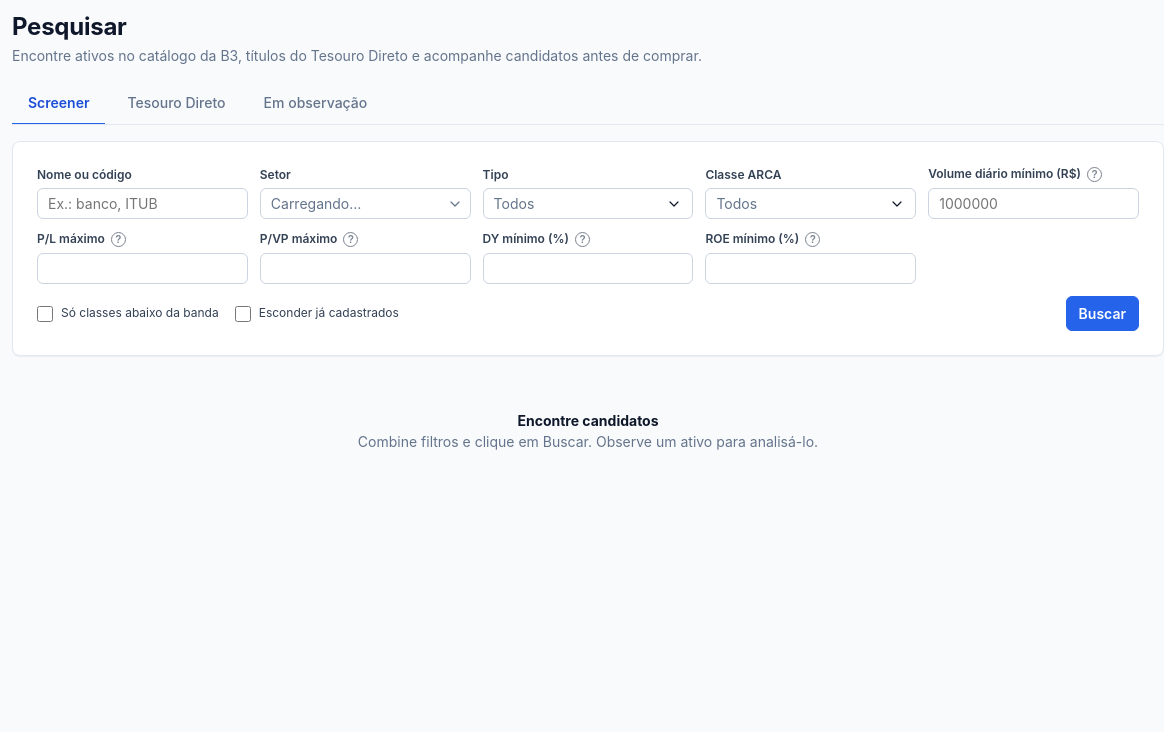
Test: research › cancels the quadrant choice without following
The image size is (1164, 732).
What coordinates should you click on to do the following:
click the button "Buscar"
I would click on:
 (1102, 314)
Its box is [1066,296,1139,331].
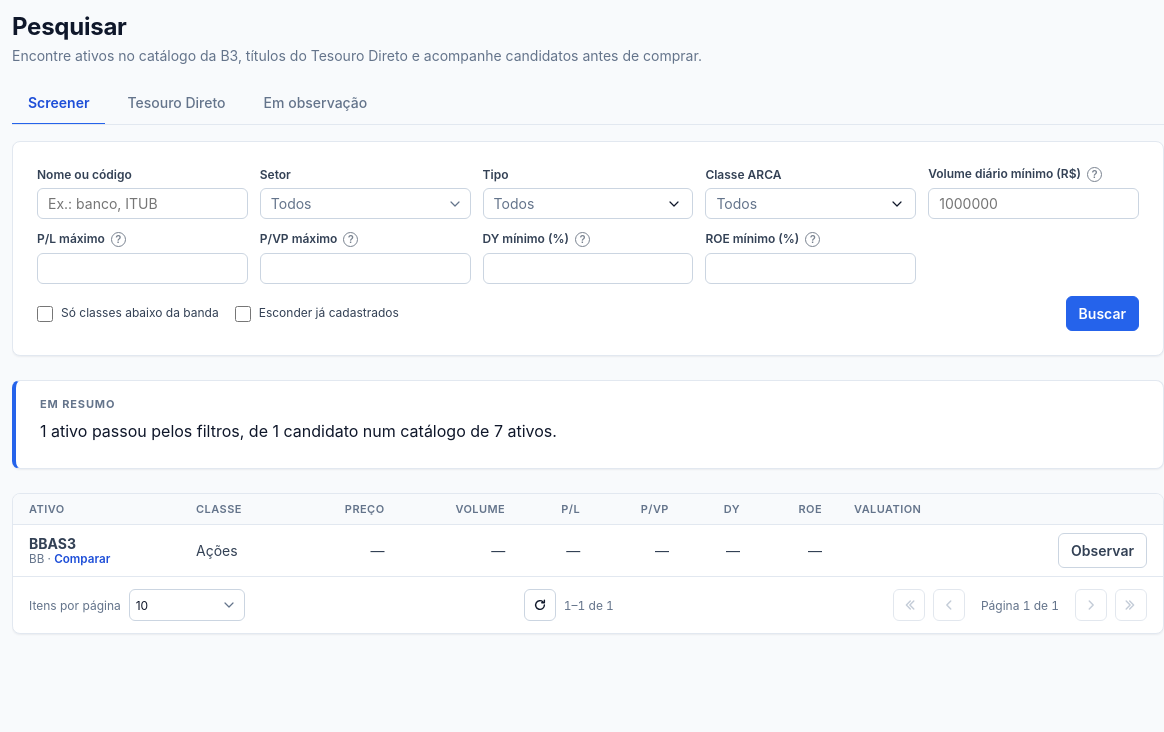
What coordinates should you click on to do the following:
click the button "Observar"
I would click on:
 (1102, 551)
Its box is [1058,533,1147,568].
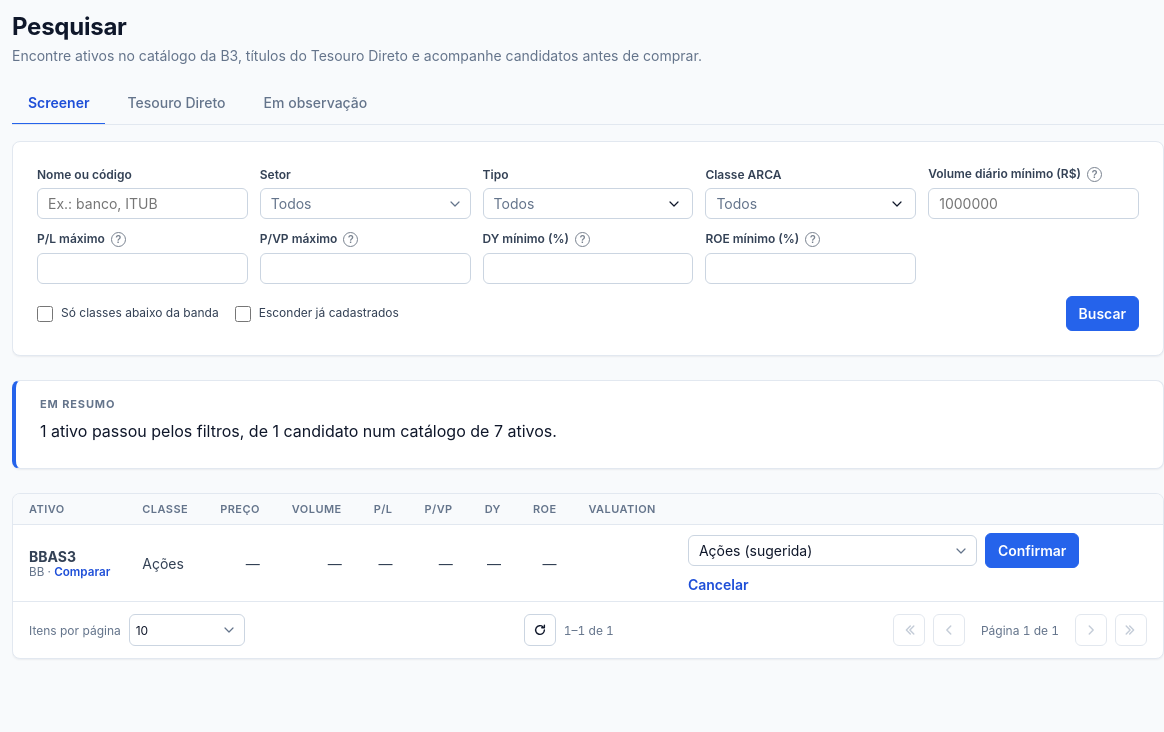
What coordinates should you click on to do the following:
click the button "Cancelar"
I would click on:
 (718, 585)
Its box is [688,576,748,593].
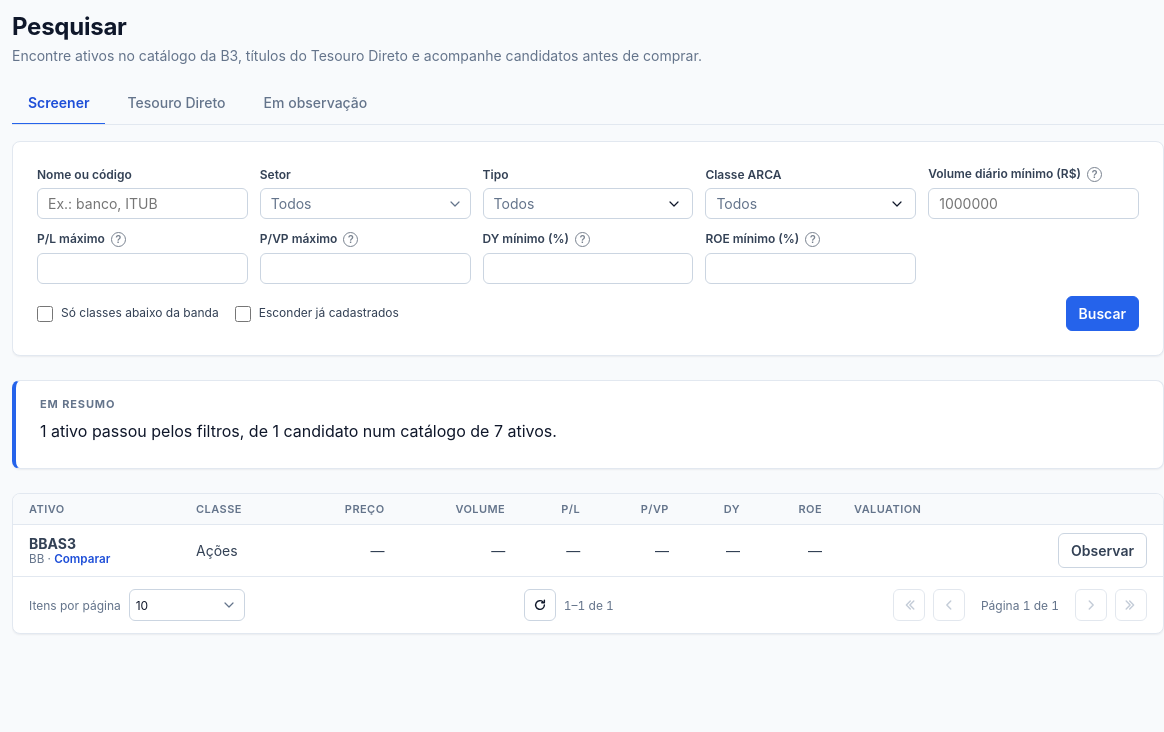
Result: the button "Observar" is shown at [1058,533,1147,568]
